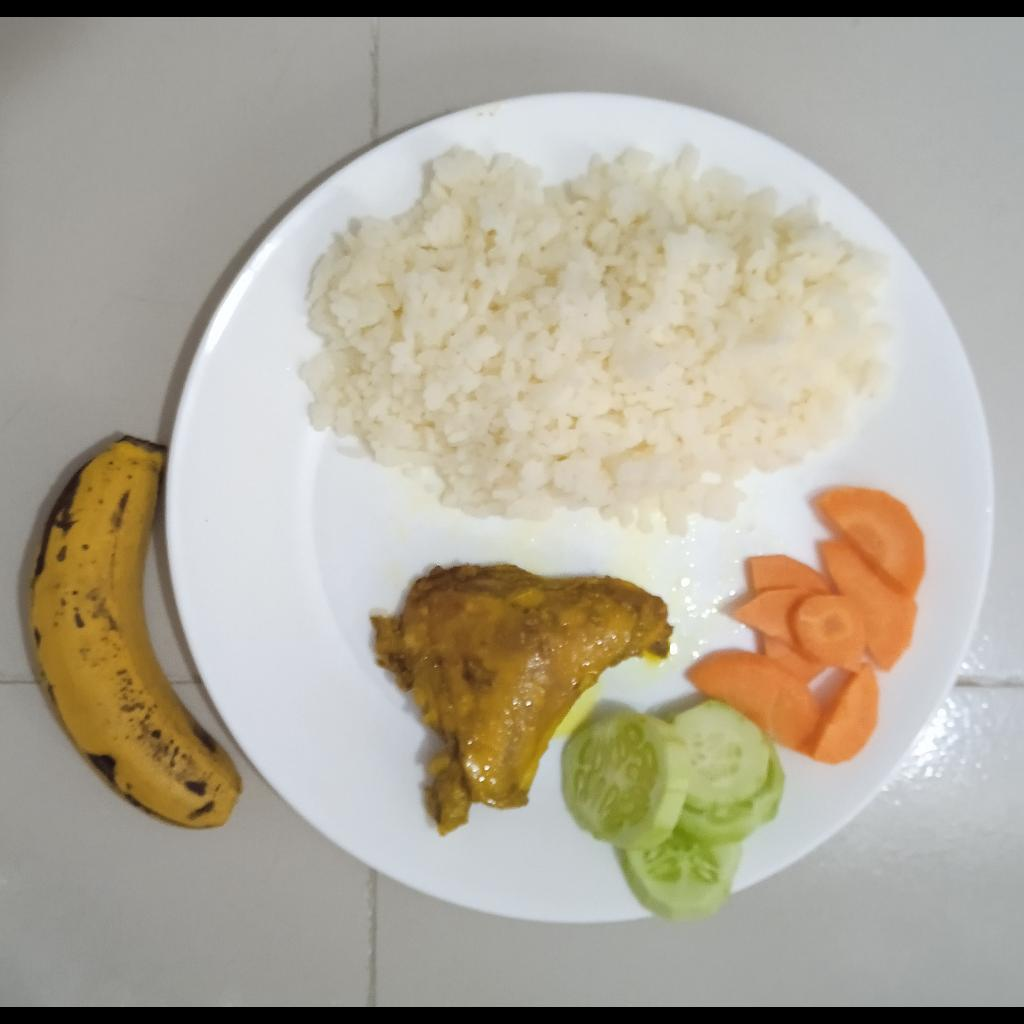banana: (28, 435, 244, 830)
carrot: (685, 486, 927, 763)
chicken: (373, 564, 674, 836)
cucumber: (561, 700, 787, 924)
rice: (299, 146, 893, 536)
